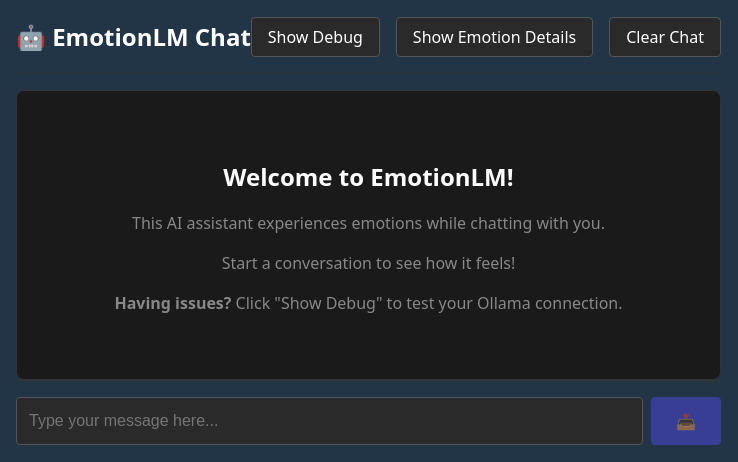
Test case: ChatInterface › should toggle emotion details panel
This screenshot has width=738, height=462.
Step 1. Click the button "Show Emotion Details" → click(495, 37), box [396, 17, 593, 57]
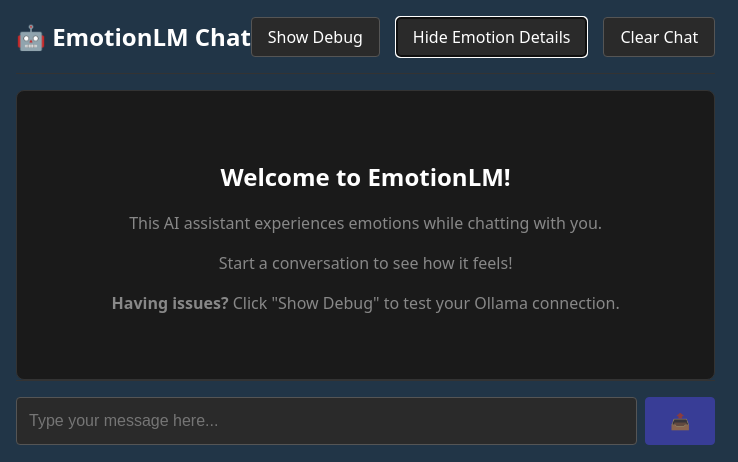
Result: the button "Hide Emotion Details" is shown at [396, 17, 588, 57]
